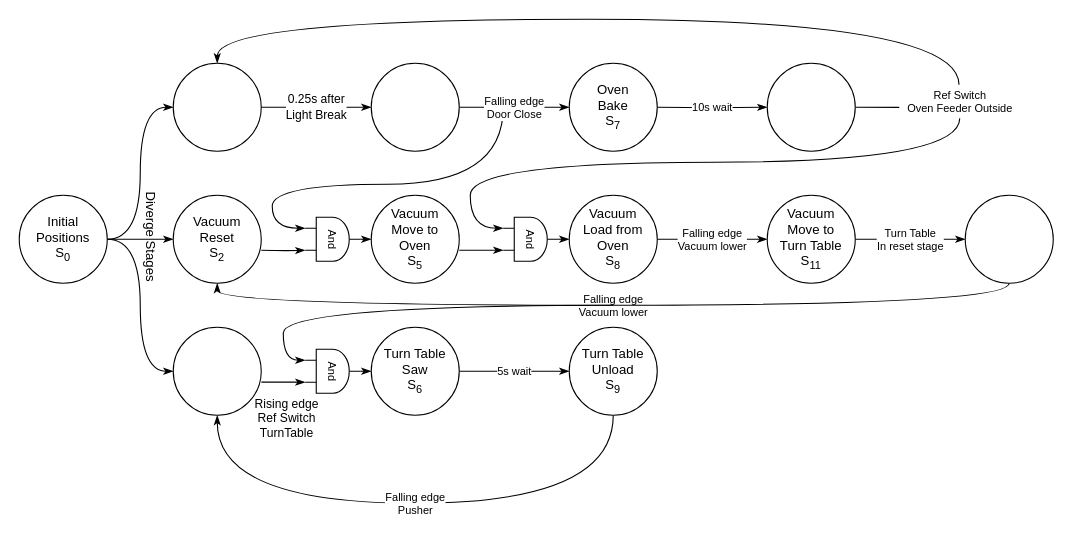
Image size: 1073x536. Some labels were removed from this diagram. Each missing label, with the centre of its shape:
Oven Load S 4: the point at 414,106
Oven Reset S 1: the point at 216,106
Oven Unload S 10: the point at 810,106
Turn Table Reset S 3: the point at 216,370
Vacuum Unload to Turn Table S 12: the point at 1008,238
